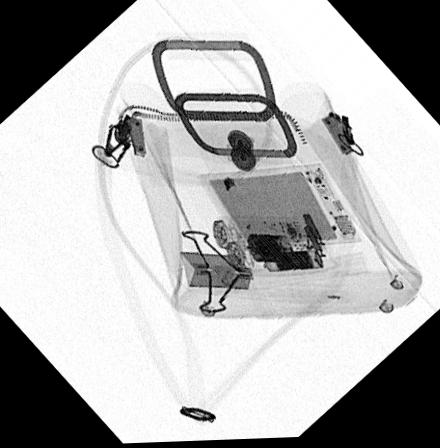Powerbank: (198, 167, 360, 261)
